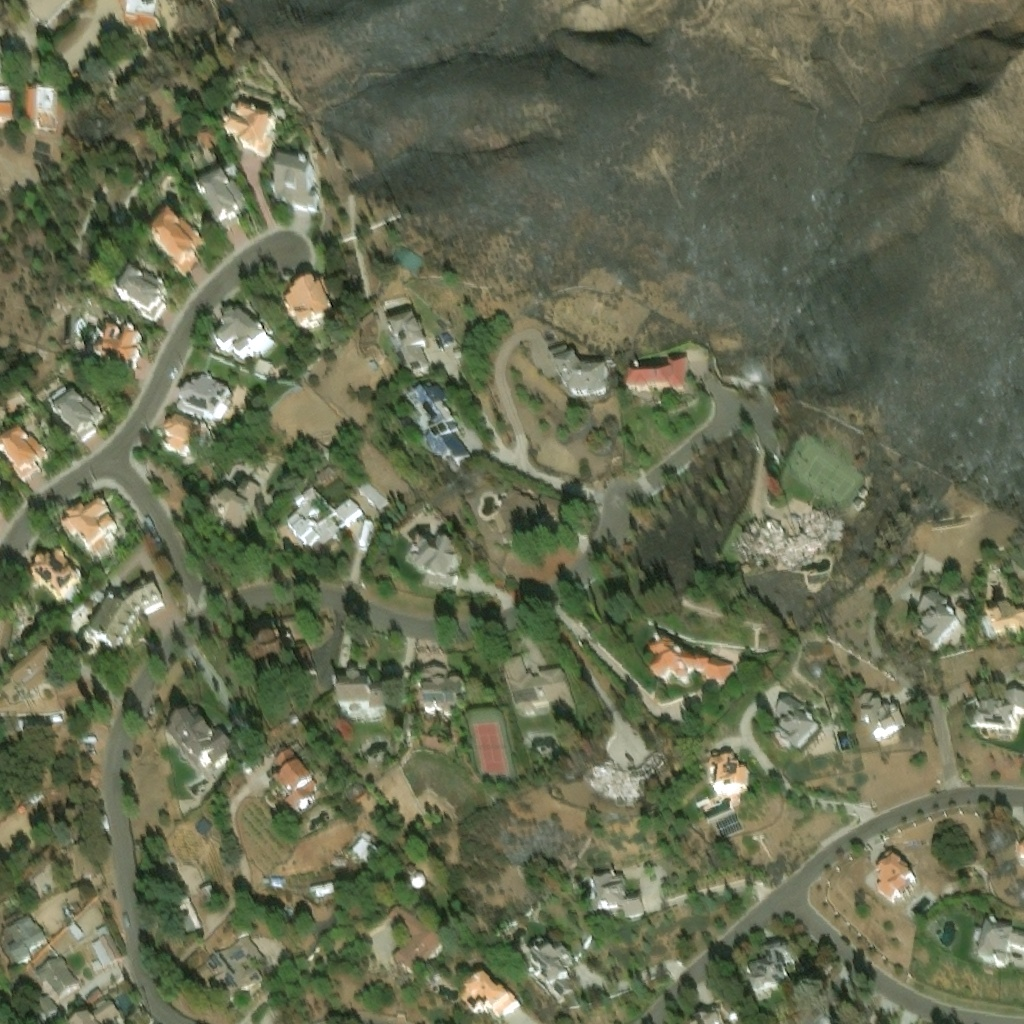0 no-damage: (0, 638, 119, 717), (731, 493, 840, 564), (348, 827, 435, 903), (84, 575, 165, 654), (403, 383, 475, 471), (590, 731, 667, 805), (286, 484, 365, 554), (186, 929, 268, 996), (162, 696, 238, 768), (498, 654, 578, 719), (60, 501, 135, 569), (492, 482, 566, 550), (385, 903, 451, 979), (261, 738, 321, 821), (173, 367, 250, 430), (648, 631, 737, 685), (545, 333, 619, 396), (208, 293, 275, 361), (527, 930, 582, 1006), (912, 587, 971, 656), (385, 309, 439, 384), (279, 264, 343, 327), (25, 549, 87, 612), (197, 161, 252, 232), (46, 383, 107, 446), (202, 478, 263, 539), (409, 528, 474, 584), (587, 864, 648, 923), (246, 633, 319, 680), (154, 214, 207, 277), (743, 936, 796, 999), (457, 967, 522, 1018), (623, 356, 690, 405), (853, 683, 906, 744), (773, 690, 822, 755), (83, 316, 147, 365), (160, 413, 218, 467), (224, 100, 276, 160), (269, 147, 318, 209), (0, 430, 52, 488), (117, 261, 169, 319), (705, 738, 752, 802), (330, 672, 391, 719), (874, 844, 918, 906), (971, 917, 1023, 968), (978, 692, 1023, 747), (421, 670, 467, 722), (33, 953, 82, 1000), (978, 599, 1023, 646), (163, 896, 204, 942), (8, 995, 65, 1023), (26, 88, 60, 132), (251, 349, 301, 378), (117, 0, 160, 32), (387, 241, 426, 273), (89, 935, 122, 972), (713, 814, 747, 844), (90, 997, 122, 1023), (125, 1002, 156, 1023), (569, 757, 590, 780), (84, 984, 104, 1005), (66, 922, 85, 942), (69, 1011, 100, 1023), (61, 904, 79, 923), (200, 882, 217, 902), (0, 85, 14, 104), (696, 1014, 724, 1023), (0, 483, 7, 510)
4 un-classified: (223, 23, 259, 60)
